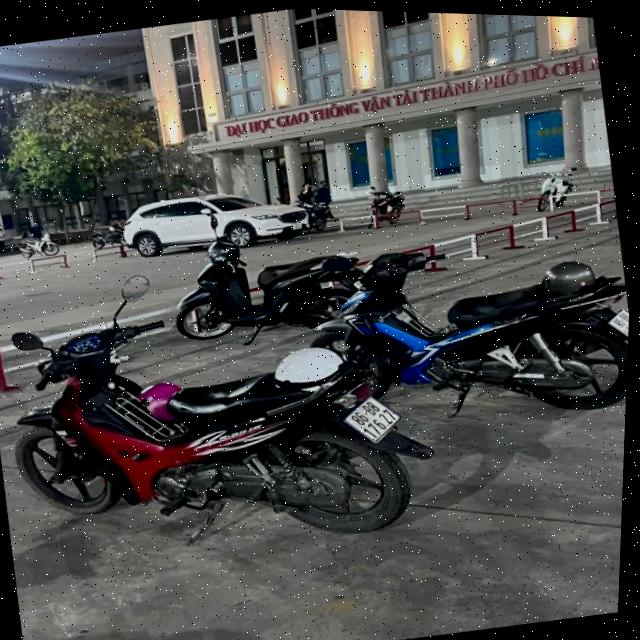car: (106, 170, 322, 271)
motorcycle: (0, 271, 451, 595), (295, 210, 633, 452), (160, 212, 370, 353)
plate: (334, 389, 405, 456)
